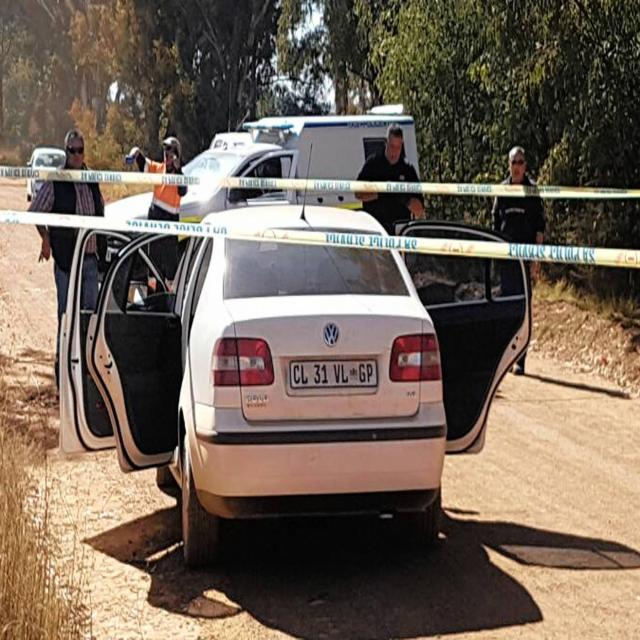number_plate: (289, 354, 379, 386)
